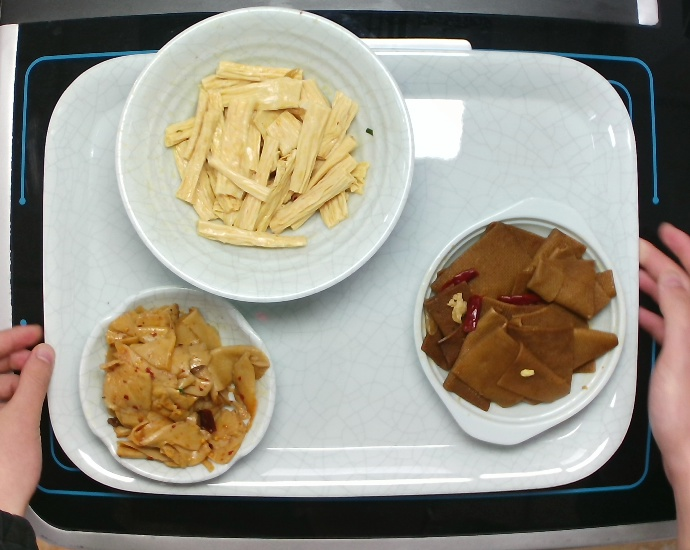JYsf-Ao_Yuan_Wan: (72, 281, 282, 493)
JYsf-Shuang_Er_Pan: (409, 193, 634, 451)
JYsf-Xiao_Tang_Wan: (108, 3, 420, 309)
